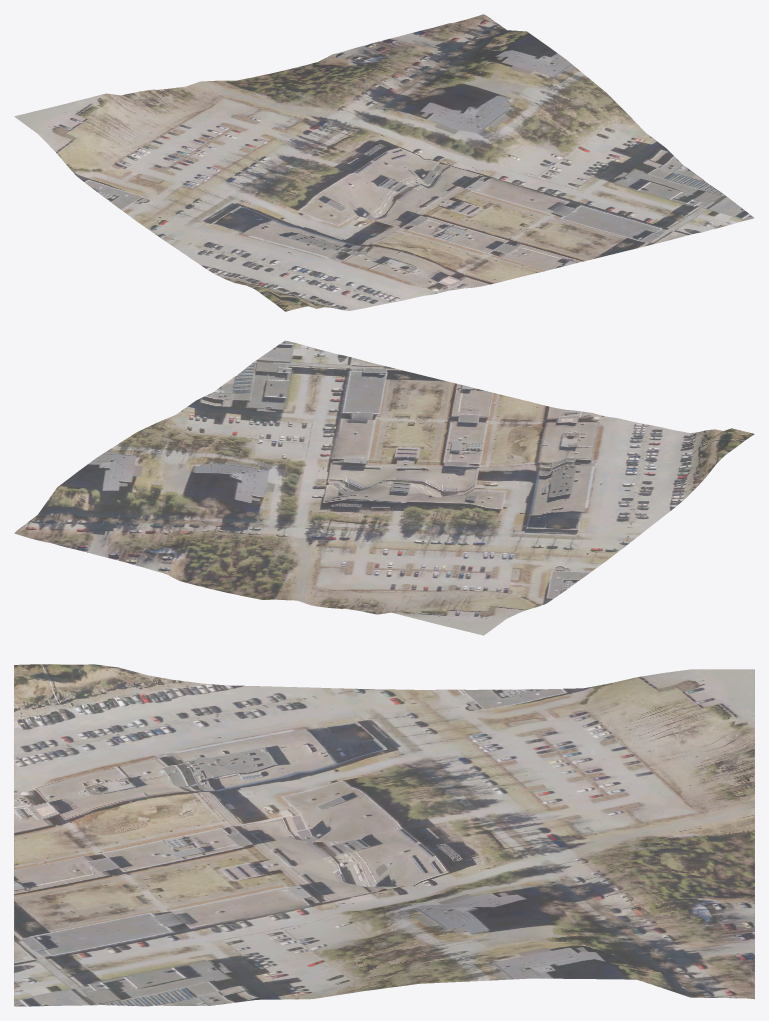
Rendered from CM_Terrain_24492302_6815698.fbx.
3 views of the same model, one above another, from view 1: azimuth 30°, elevation 25°; view 2: azimuth 150°, elevation 25°; view 3: azimuth 270°, elevation 25° (orthographic). The views are drawn at different scales.
Parts seen in each view (by area): view 1: CM_Terrain_24492302_6815698_LOD0; view 2: CM_Terrain_24492302_6815698_LOD0; view 3: CM_Terrain_24492302_6815698_LOD0.
Part boxes in pixels (x1,y1,x2,y2): CM_Terrain_24492302_6815698_LOD0: (14,14,754,311); CM_Terrain_24492302_6815698_LOD0: (14,340,754,635); CM_Terrain_24492302_6815698_LOD0: (14,664,754,1006).
Size of what is drawn, in the model's own units: 205 by 14.53 by 205.
